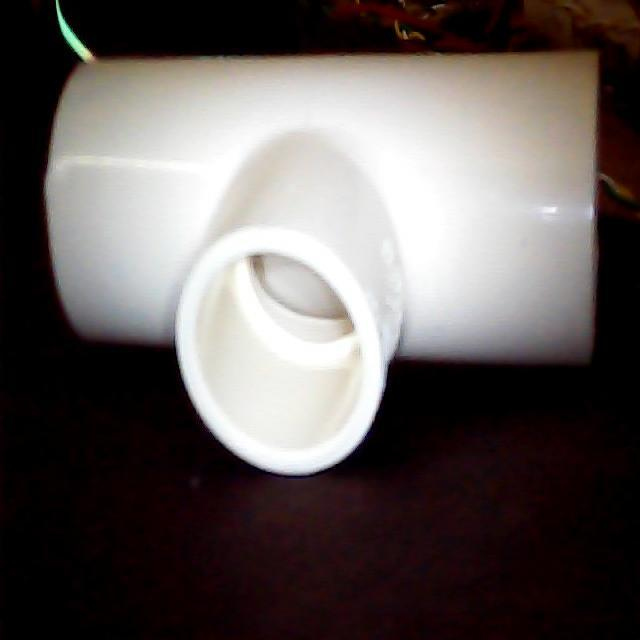T Joint: (43, 49, 602, 479)
